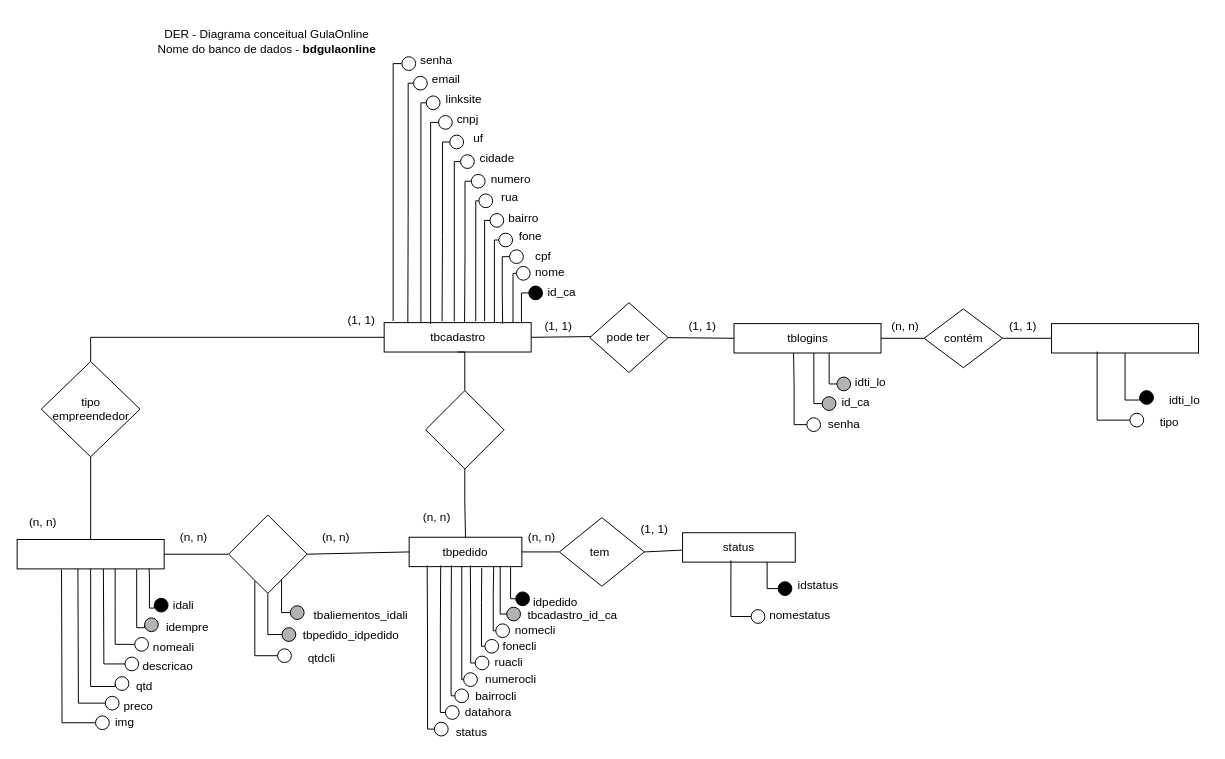
The diagram is 1225 pixels wide and 759 high, and some of its shapes have lost their labels. The shapes that lost their labels are listed below. From the top down, each one's centre as x and y in pixels, then its label:
At [1125,338]: "tbtipos_logins".
At [464,429]: "dados".
At [90,554]: "tbalimentos".
At [267,553]: "gera".
